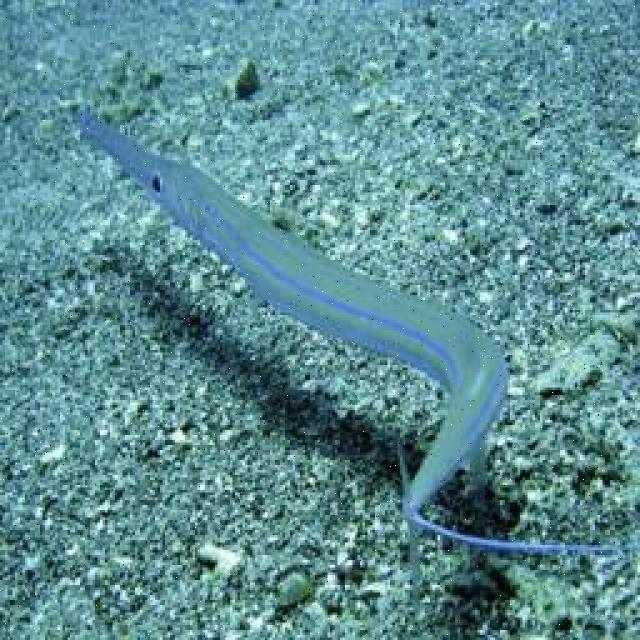fish: (76, 112, 626, 557)
